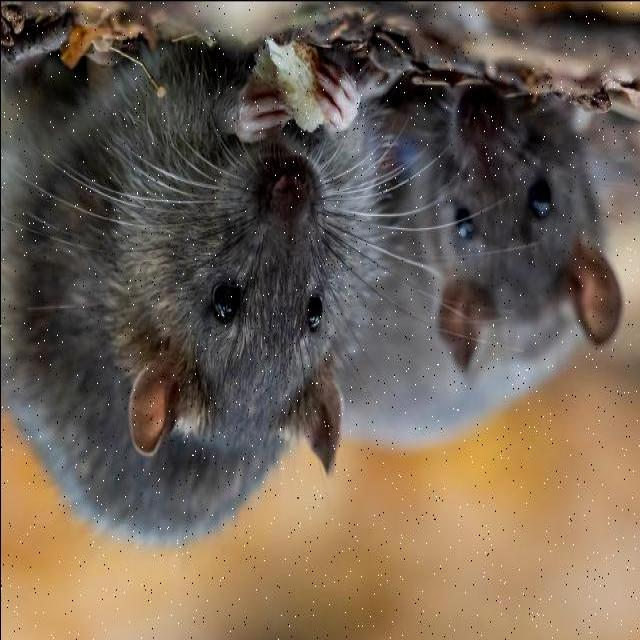rat: (0, 35, 352, 550), (382, 99, 618, 441)
